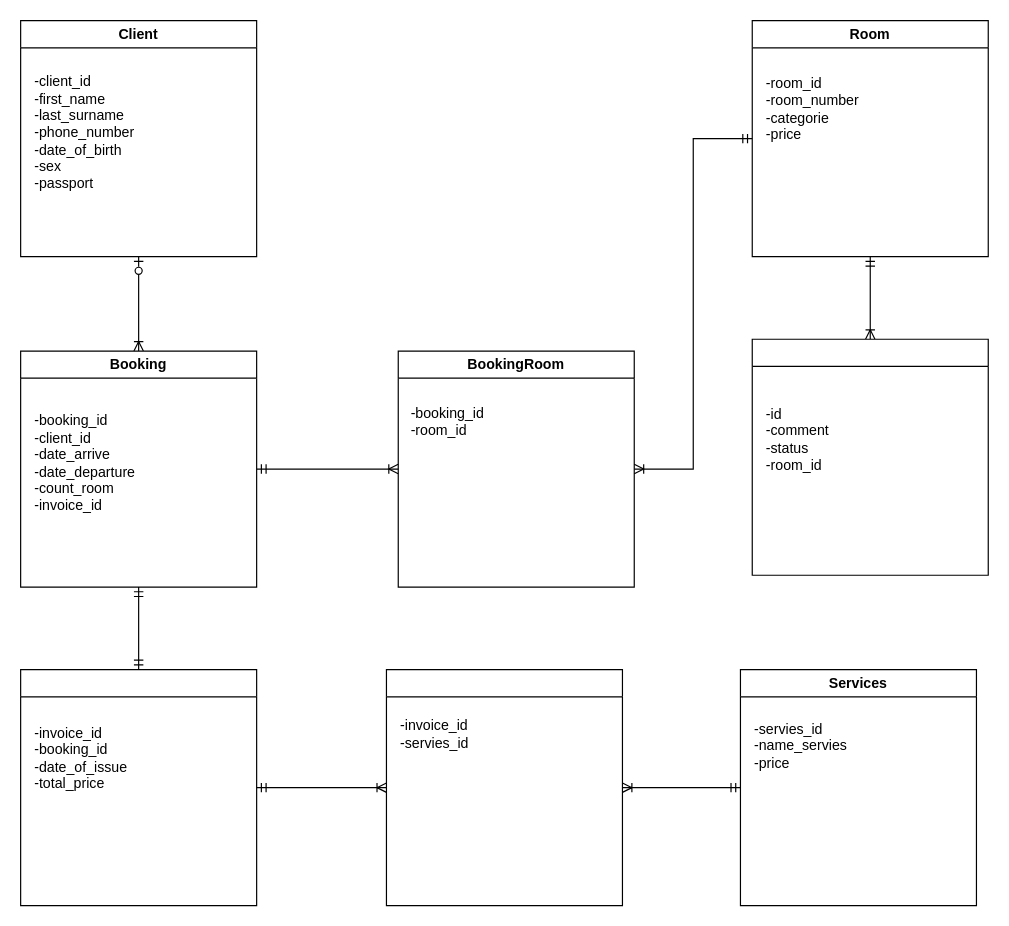
Some shapes in this 1009 by 926 pixel diagram are drawn without their labels. Here are the shapes that lost their labels. From the top down, the box of each, then its label:
(751, 338, 988, 575): Incident
(19, 668, 257, 906): InvoiceForPayment
(385, 668, 622, 906): InvoiceServices
